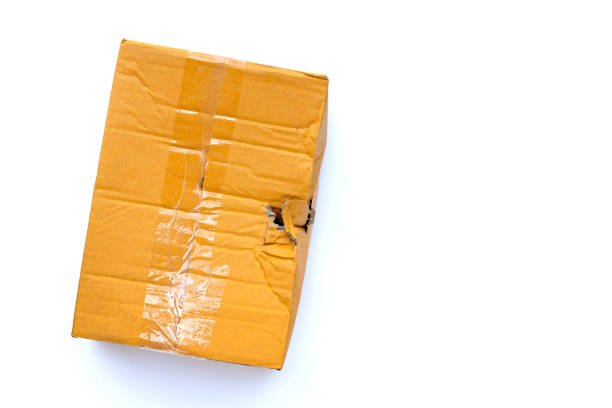damaged package: (261, 190, 316, 263)
